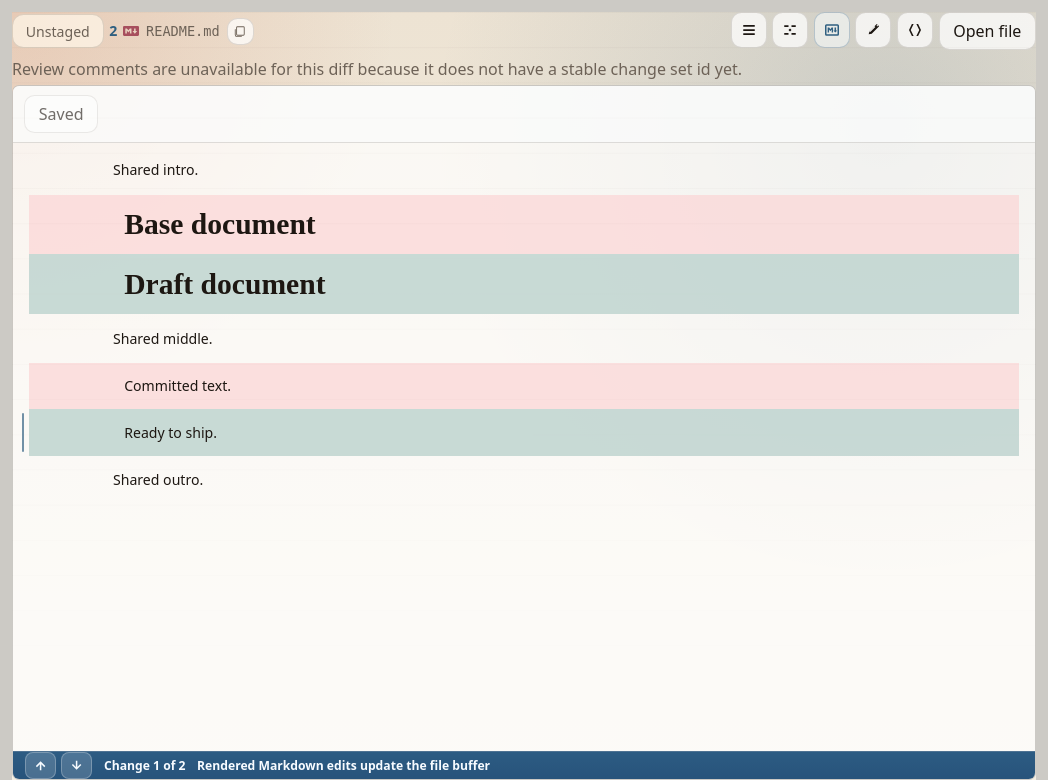
Test: DiffPanel › keeps apply-to-disk-version flowing when `commitRenderedMarkdownDrafts` has nothing to flush
Clear the field labelled "Ready to ship." at [524, 433], box [29,410,1019,456]
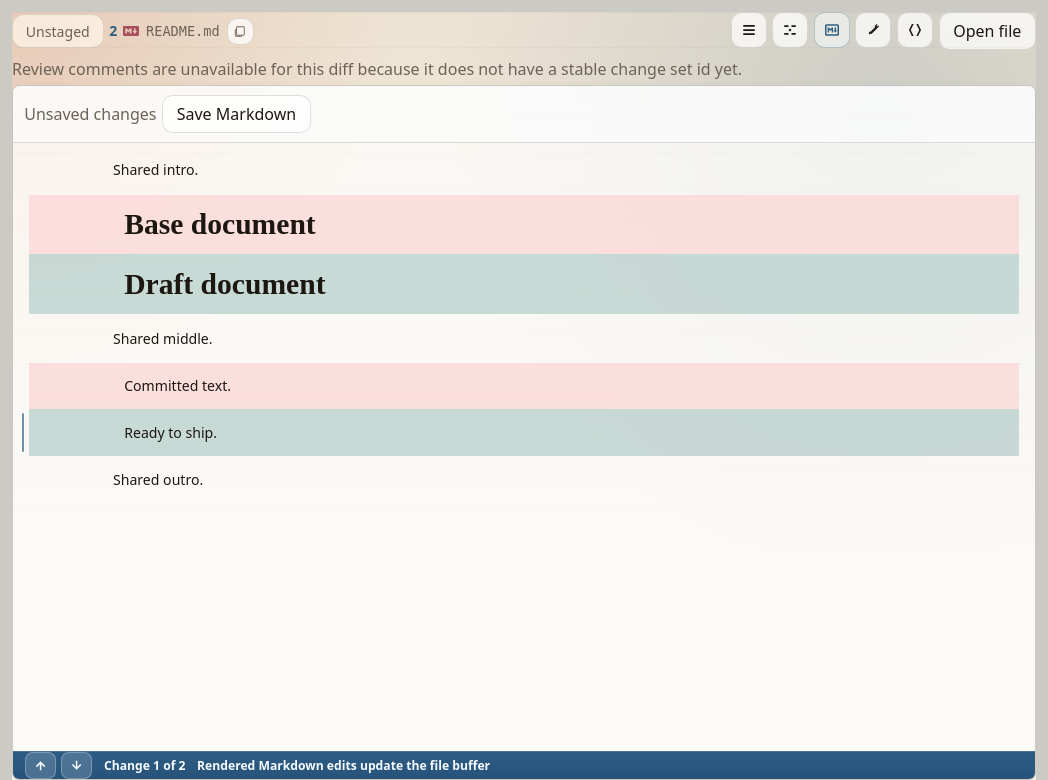
Click the button "Save Markdown" at [236, 114], box [162,95,311,133]
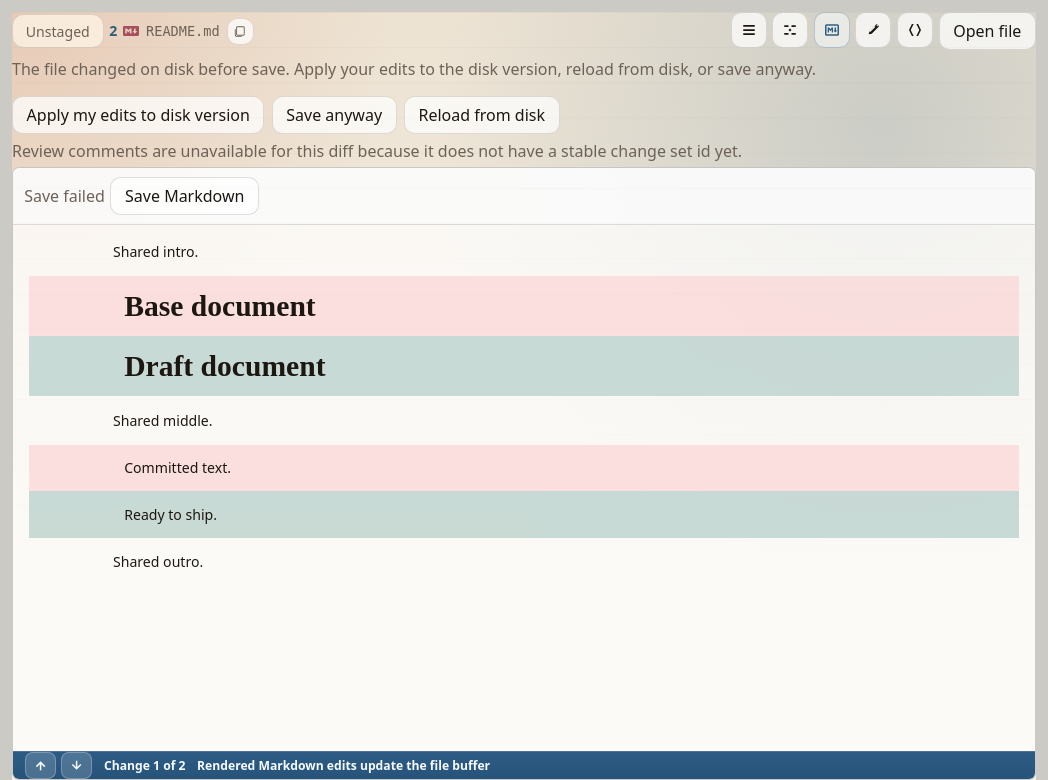
Click the button "Apply my edits to disk version" at [138, 115], box [12,96,264,134]
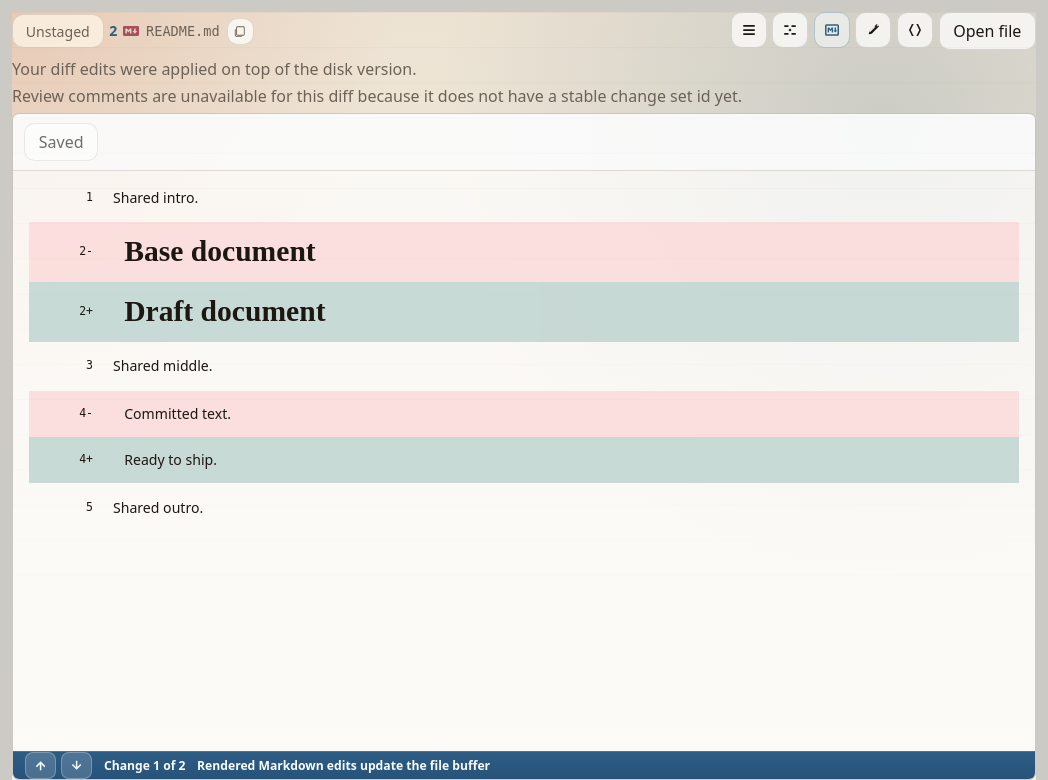
Expected: the text "Your diff edits were applied on top of the disk version." is shown, [12,58,416,80]
